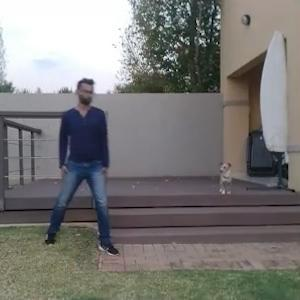follow: (54, 78, 104, 238)
